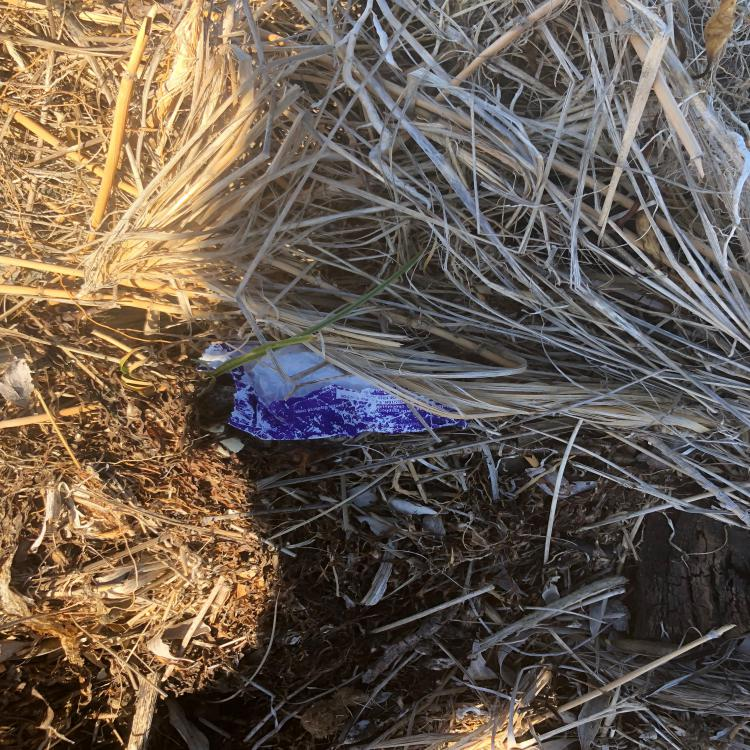Other plastic: (196, 343, 473, 439)
